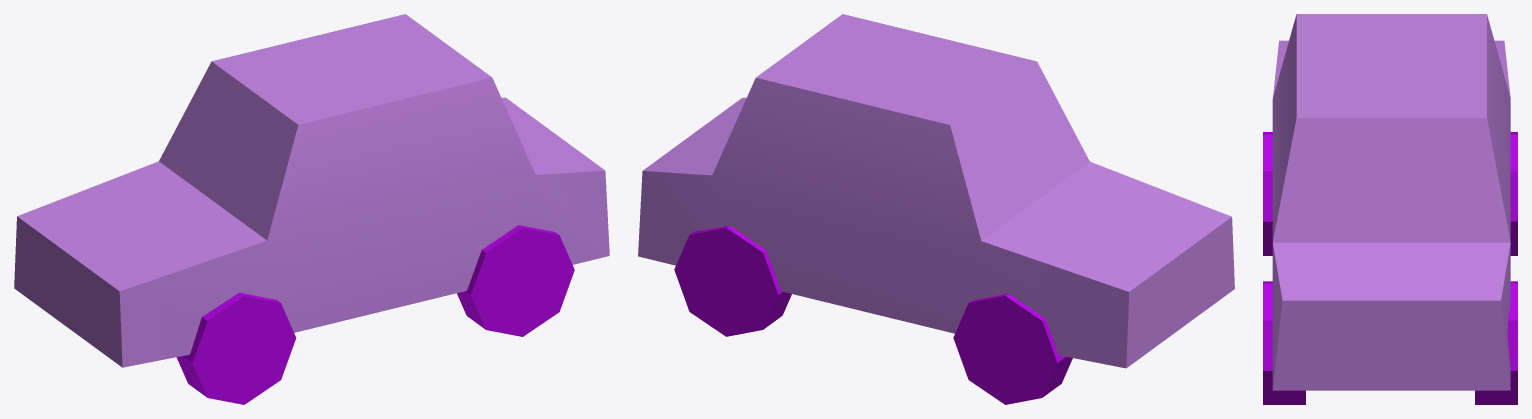
Rendered from car.fbx.
The picture shows the model from 3 angles, left to right: view 1: azimuth 30°, elevation 25°; view 2: azimuth 150°, elevation 25°; view 3: azimuth 270°, elevation 25°; orthographic projection. The views are drawn at different scales.
Parts seen in each view (by area): view 1: pCylinder9; view 2: pCylinder9; view 3: pCylinder9.
Boxes of the visible parts, box(x1,y1,x2,y2) form: pCylinder9: box(14, 14, 609, 404); pCylinder9: box(638, 14, 1234, 404); pCylinder9: box(1263, 14, 1517, 404).
Bounding box in the file's own units: 5.18 × 2.56 × 2.14.
